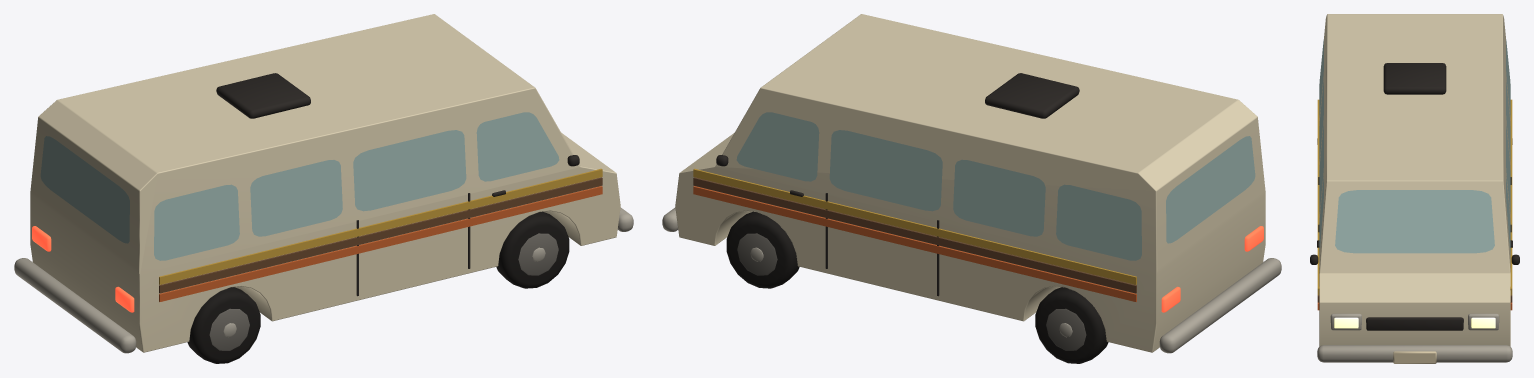
The model's file is van80.glb.
3 views of the same model, side by side, from view 1: azimuth 30°, elevation 25°; view 2: azimuth 150°, elevation 25°; view 3: azimuth 270°, elevation 25° (orthographic). The views are drawn at different scales.
Parts seen in each view (by area): view 1: Van80, Van80_Wheel_FR, Van80_Wheel_RR; view 2: Van80, Van80_Wheel_FL, Van80_Wheel_RL; view 3: Van80.
Part boxes in pixels (x1,y1,x2,y2): Van80: [14, 14, 633, 353]; Van80_Wheel_FR: [496, 211, 569, 288]; Van80_Wheel_RR: [187, 287, 260, 363]; Van80: [662, 14, 1281, 353]; Van80_Wheel_FL: [726, 211, 799, 288]; Van80_Wheel_RL: [1035, 287, 1108, 363]; Van80: [1310, 14, 1519, 363].
Bounding box in the file's own units: 5.01 × 1.98 × 2.02.
